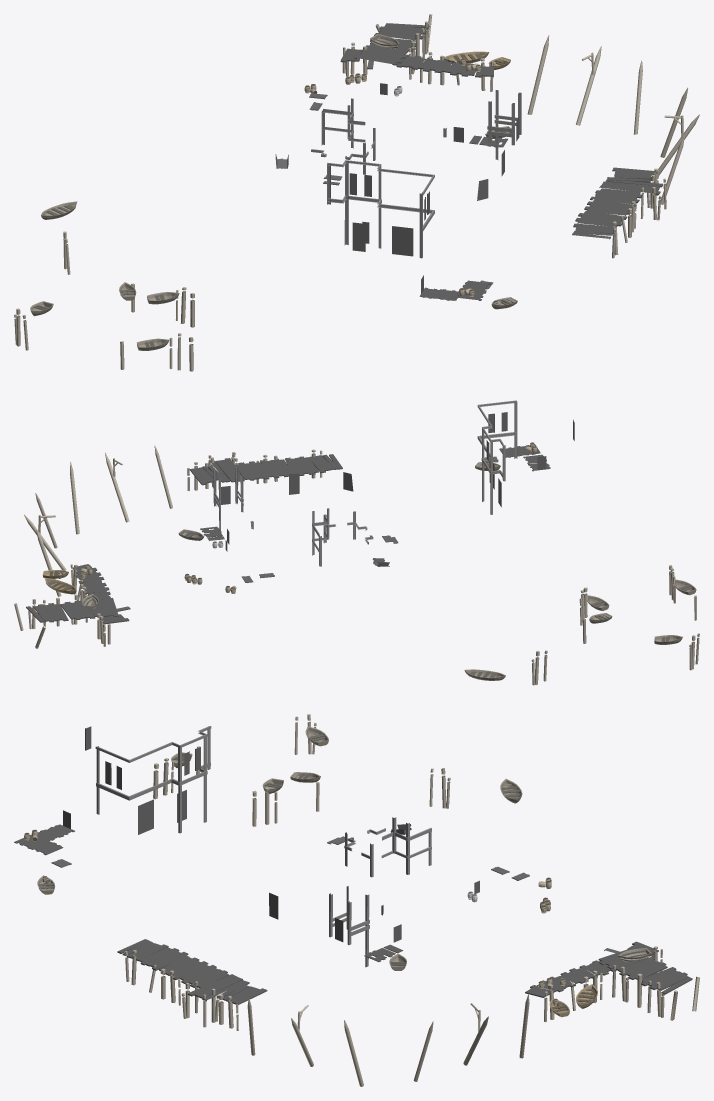
File: MSH_ENV_SquareArena_Wood.FBX
3 views of the same model, one above another, from view 1: azimuth 30°, elevation 25°; view 2: azimuth 150°, elevation 25°; view 3: azimuth 270°, elevation 25° (orthographic). The views are drawn at different scales.
Visible parts, largest first — view 1: ENV_SquareArena_Wood; view 2: ENV_SquareArena_Wood; view 3: ENV_SquareArena_Wood.
Boxes of the visible parts, left/top/right/bottom form: ENV_SquareArena_Wood: left=14, top=14, right=699, bottom=371; ENV_SquareArena_Wood: left=14, top=400, right=699, bottom=685; ENV_SquareArena_Wood: left=14, top=714, right=699, bottom=1086.
Size of the model in its own units: 81.88 by 17.53 by 67.98.
